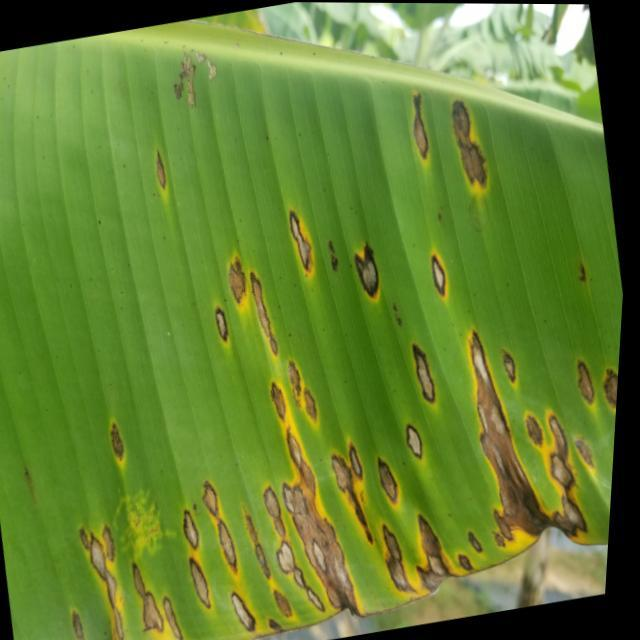Early_rust: (53, 53, 615, 635)
